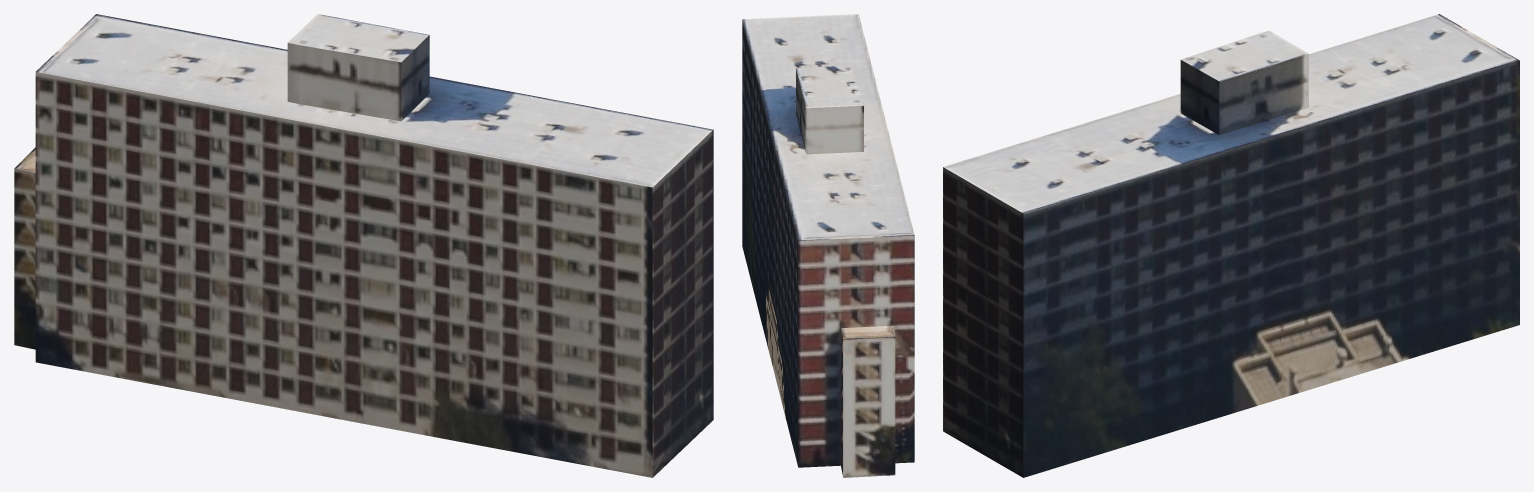
Rendered from torre_s14_e.glb.
3 views of the same model, side by side, from view 1: azimuth 30°, elevation 25°; view 2: azimuth 150°, elevation 25°; view 3: azimuth 270°, elevation 25° (orthographic). The views are drawn at different scales.
Visible parts, largest first — view 1: torre_s14_e; view 2: torre_s14_e; view 3: torre_s14_e.
Boxes of the visible parts, x1,y1,x2,y2 form: torre_s14_e: (14, 14, 713, 477); torre_s14_e: (742, 14, 914, 477); torre_s14_e: (943, 14, 1519, 477).
Size of the model in its own units: 43.94 by 32.65 by 53.67.
1 material, 1 textured.
